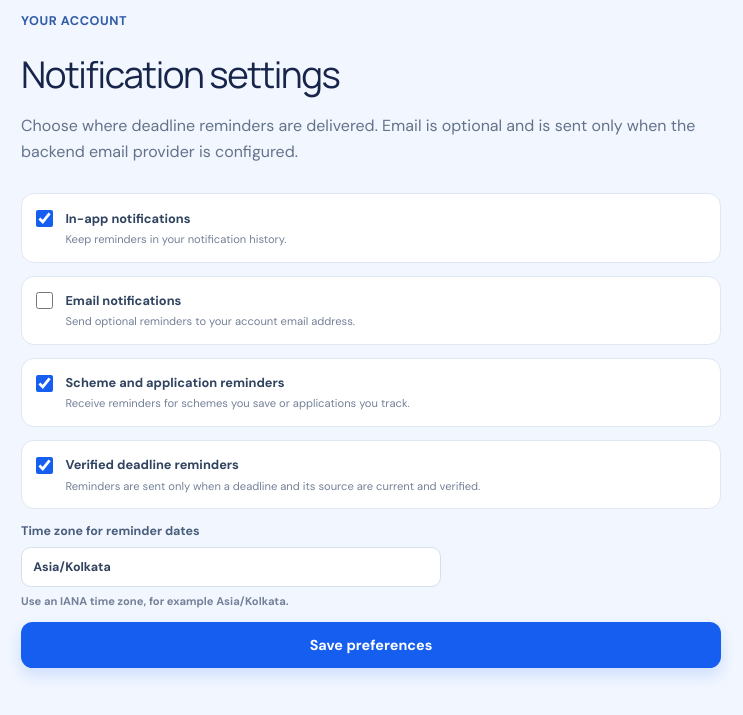
Test: notification pages › saves optional email and timezone preferences
Click the checkbox labelled "Email notifications" at (45, 301), box [36, 292, 53, 310]
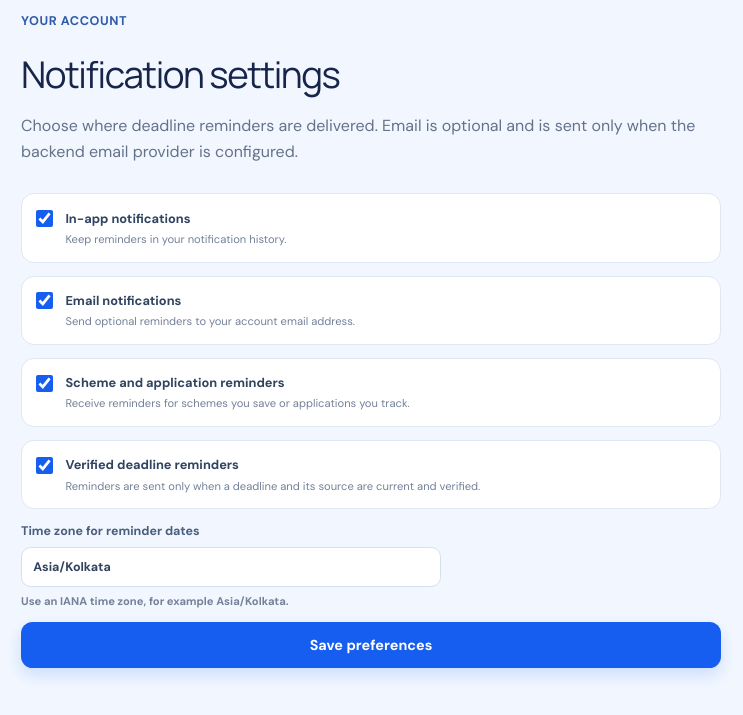
Type "America/Los_Angeles" into the field labelled "Time zone for reminder dates" at (231, 567), box [21, 547, 441, 587]
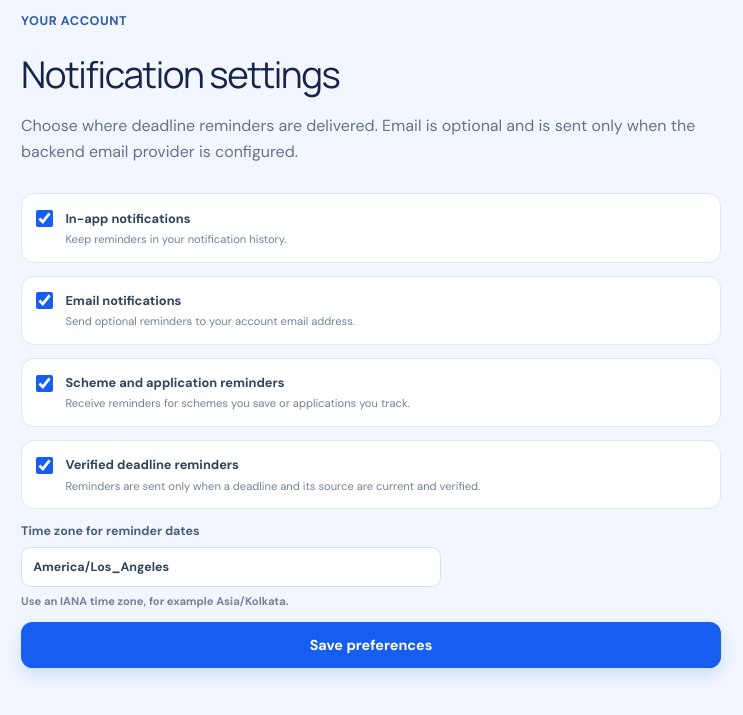
Click the button "Save preferences" at (371, 646), box [21, 622, 721, 668]
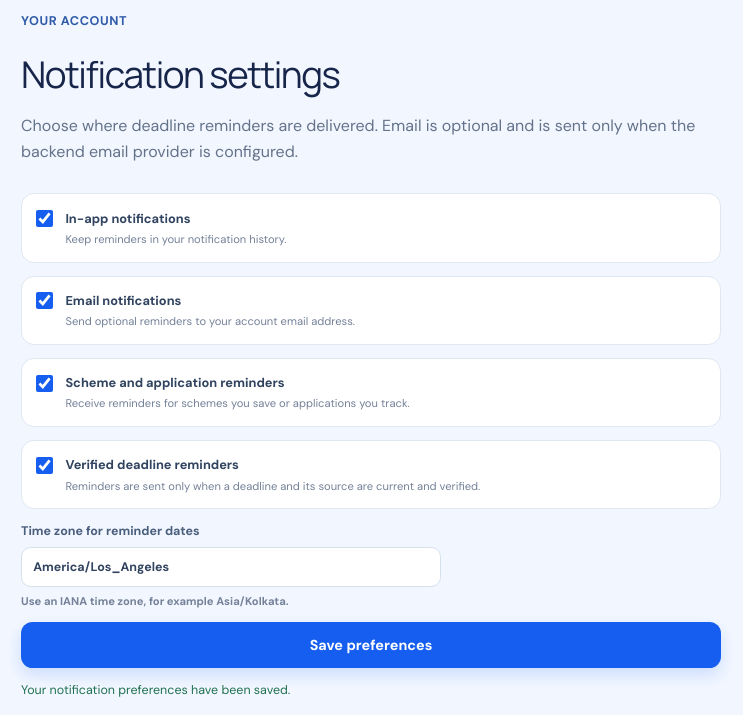
Expected: the message shows "preferences have been saved", [21, 682, 290, 698]
